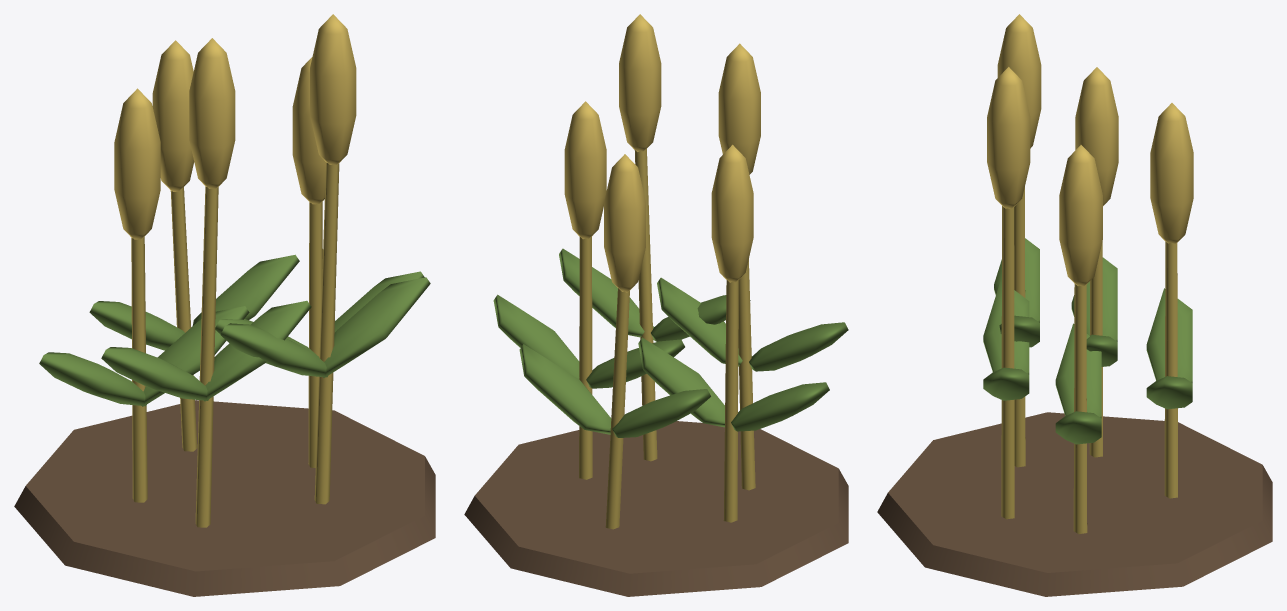
Rendered from Nature_Crop_Mature.glb.
3 renders of one model, left to right at view 1: azimuth 30°, elevation 25°; view 2: azimuth 150°, elevation 25°; view 3: azimuth 270°, elevation 25°, orthographic. The views are drawn at different scales.
Visible parts, largest first — view 1: _MeshInstance3D_4462, _MeshInstance3D_4482, _MeshInstance3D_4478, _MeshInstance3D_4470, _MeshInstance3D_4475, _MeshInstance3D_4467, _MeshInstance3D_4474, _MeshInstance3D_4477, _MeshInstance3D_4479, _MeshInstance3D_4466, _MeshInstance3D_4468, _MeshInstance3D_4480 (+8 smaller); view 2: _MeshInstance3D_4462, _MeshInstance3D_4482, _MeshInstance3D_4478, _MeshInstance3D_4466, _MeshInstance3D_4474, _MeshInstance3D_4470, _MeshInstance3D_4473, _MeshInstance3D_4479, _MeshInstance3D_4471, _MeshInstance3D_4481, _MeshInstance3D_4465, _MeshInstance3D_4463 (+9 smaller); view 3: _MeshInstance3D_4462, _MeshInstance3D_4478, _MeshInstance3D_4466, _MeshInstance3D_4474, _MeshInstance3D_4482, _MeshInstance3D_4475, _MeshInstance3D_4471, _MeshInstance3D_4463, _MeshInstance3D_4470, _MeshInstance3D_4472, _MeshInstance3D_4464, _MeshInstance3D_4476 (+9 smaller).
Boxes of the visible parts, bbox=[...] form: _MeshInstance3D_4462: bbox=[14, 400, 435, 596]; _MeshInstance3D_4482: bbox=[114, 88, 160, 239]; _MeshInstance3D_4478: bbox=[310, 14, 356, 164]; _MeshInstance3D_4470: bbox=[189, 38, 235, 188]; _MeshInstance3D_4475: bbox=[314, 162, 339, 504]; _MeshInstance3D_4467: bbox=[195, 186, 218, 527]; _MeshInstance3D_4474: bbox=[152, 40, 194, 191]; _MeshInstance3D_4477: bbox=[323, 277, 430, 377]; _MeshInstance3D_4479: bbox=[131, 237, 147, 502]; _MeshInstance3D_4466: bbox=[292, 57, 325, 204]; _MeshInstance3D_4468: bbox=[101, 347, 208, 400]; _MeshInstance3D_4480: bbox=[39, 352, 146, 406]; _MeshInstance3D_4462: bbox=[464, 421, 848, 596]; _MeshInstance3D_4482: bbox=[711, 144, 753, 282]; _MeshInstance3D_4478: bbox=[619, 14, 661, 151]; _MeshInstance3D_4466: bbox=[564, 101, 606, 239]; _MeshInstance3D_4474: bbox=[604, 154, 645, 292]; _MeshInstance3D_4470: bbox=[718, 43, 760, 174]; _MeshInstance3D_4473: bbox=[519, 344, 611, 434]; _MeshInstance3D_4479: bbox=[723, 280, 738, 522]; _MeshInstance3D_4471: bbox=[605, 288, 629, 529]; _MeshInstance3D_4481: bbox=[638, 337, 724, 427]; _MeshInstance3D_4465: bbox=[493, 294, 579, 379]; _MeshInstance3D_4463: bbox=[579, 236, 592, 479]; _MeshInstance3D_4462: bbox=[877, 412, 1272, 596]; _MeshInstance3D_4478: bbox=[987, 67, 1030, 209]; _MeshInstance3D_4466: bbox=[1059, 145, 1102, 286]; _MeshInstance3D_4474: bbox=[1150, 103, 1193, 243]; _MeshInstance3D_4482: bbox=[1075, 67, 1118, 205]; _MeshInstance3D_4475: bbox=[1001, 206, 1014, 519]; _MeshInstance3D_4471: bbox=[1164, 241, 1177, 498]; _MeshInstance3D_4463: bbox=[1073, 284, 1087, 533]; _MeshInstance3D_4470: bbox=[997, 14, 1041, 148]; _MeshInstance3D_4472: bbox=[1146, 288, 1192, 382]; _MeshInstance3D_4464: bbox=[1055, 323, 1101, 418]; _MeshInstance3D_4476: bbox=[983, 280, 1029, 374].
Bounding box in the file's own units: 0.7622 × 0.975 × 0.7371.
